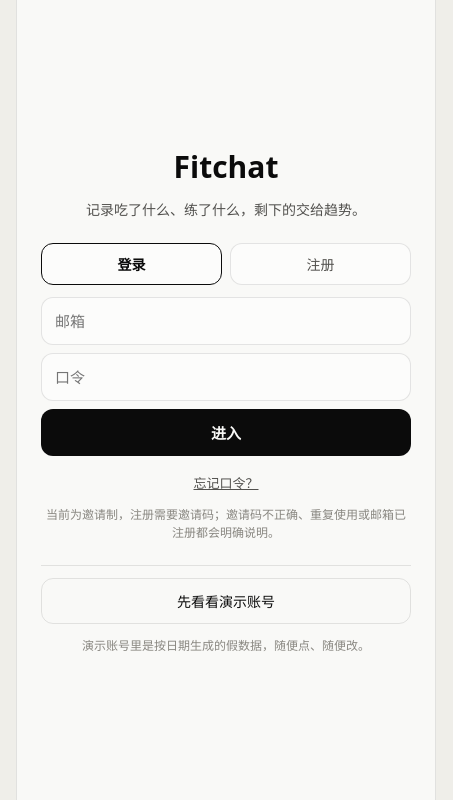
Test: 登录页 › 重置形态能返回登录
The image size is (453, 800).
Click the button "忘记口令？": (226, 482) [41, 472, 411, 493]
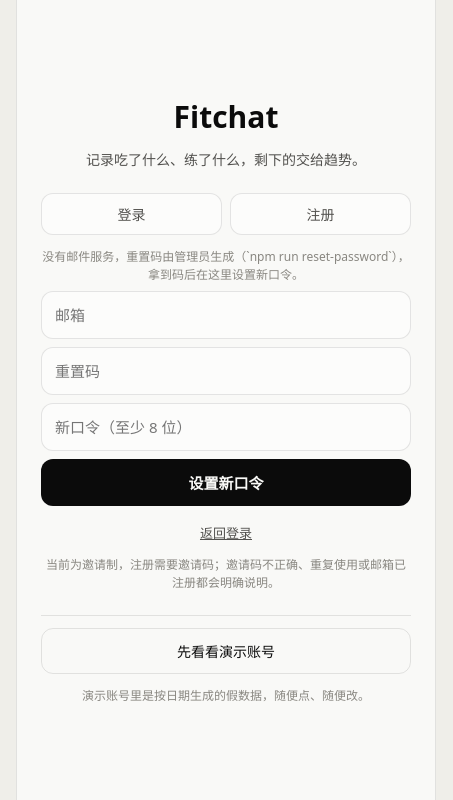
Click the button "返回登录": (226, 532) [41, 522, 411, 543]
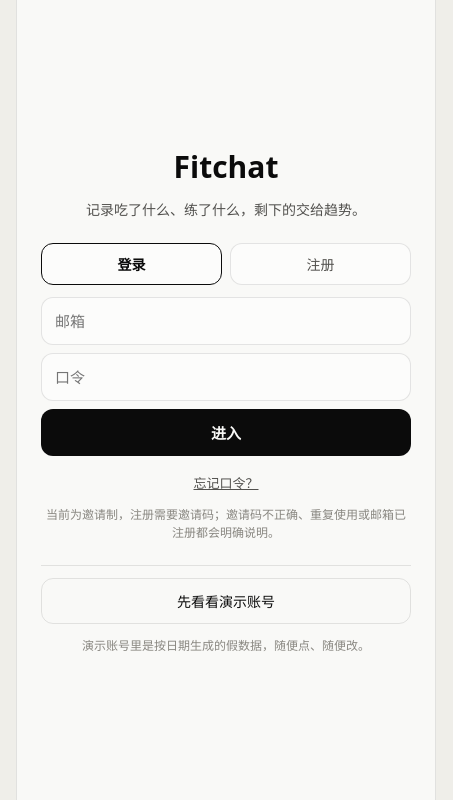
Now the password field with placeholder "口令" is shown, box [41, 353, 411, 401]
Now the text with placeholder "重置码" is gone
